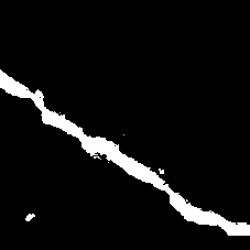crack: (1, 72, 249, 237)
pinhole: (26, 214, 35, 221)
